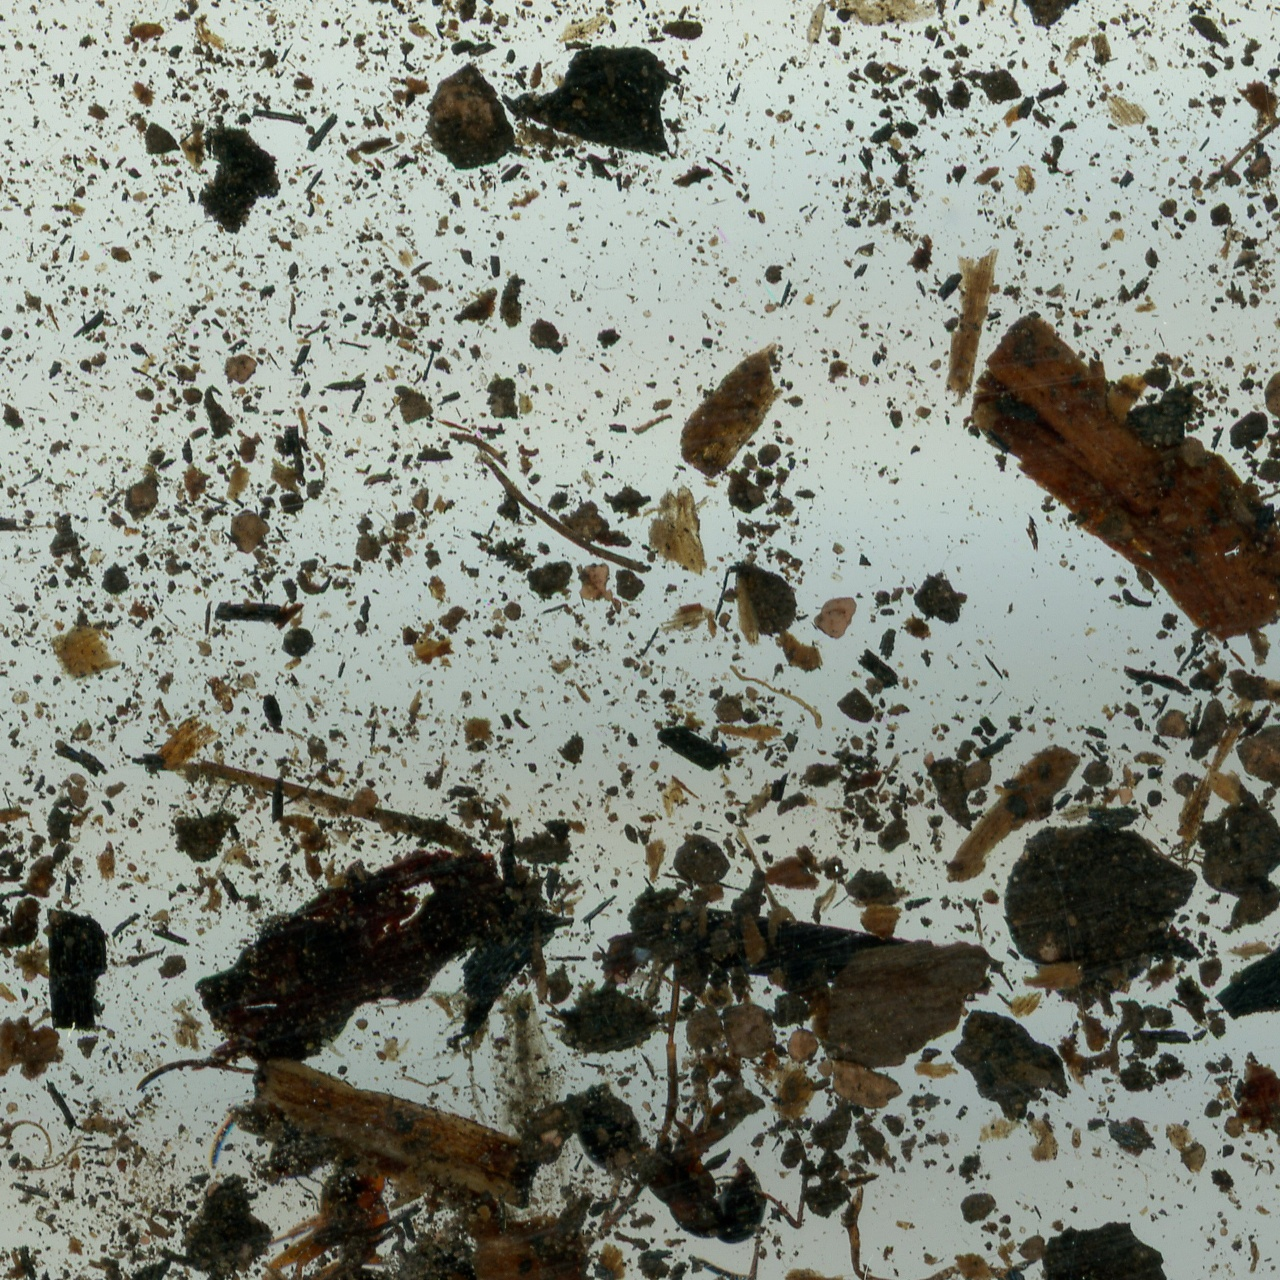arthropod: (799, 0, 833, 68)
